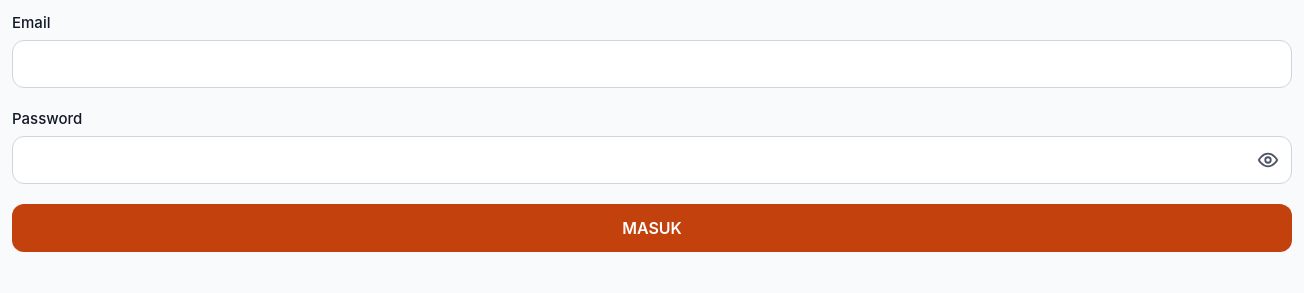
it: LoginForm › rejects a malformed email before any request
This screenshot has width=1304, height=293.
Type "andi" into the field labelled "Email" at (652, 64), box [12,40,1292,88]
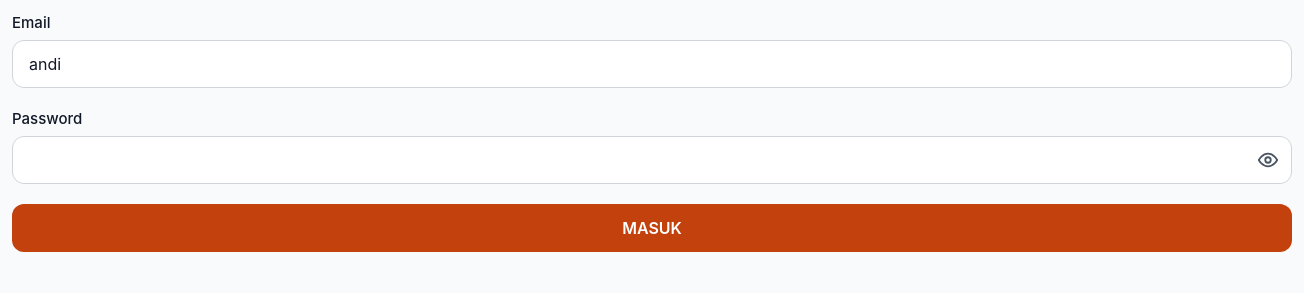
Type "password123" into the password field labelled "Password" at (652, 160), box [12,136,1292,184]
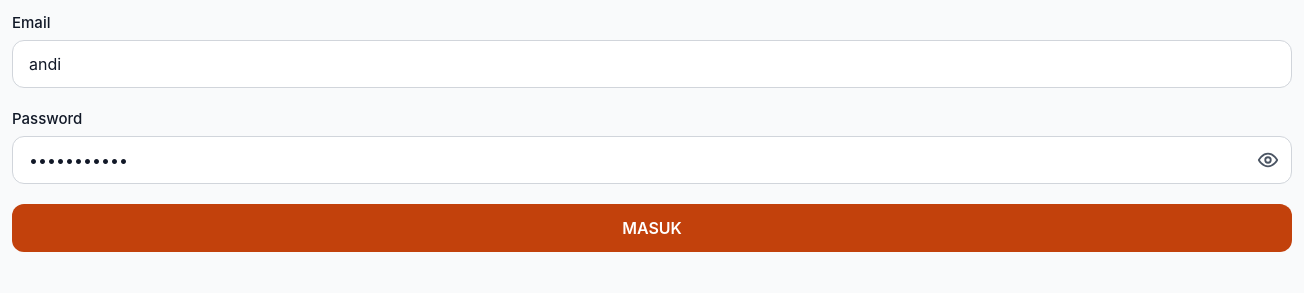
Click the button "MASUK" at (652, 228), box [12,204,1292,252]
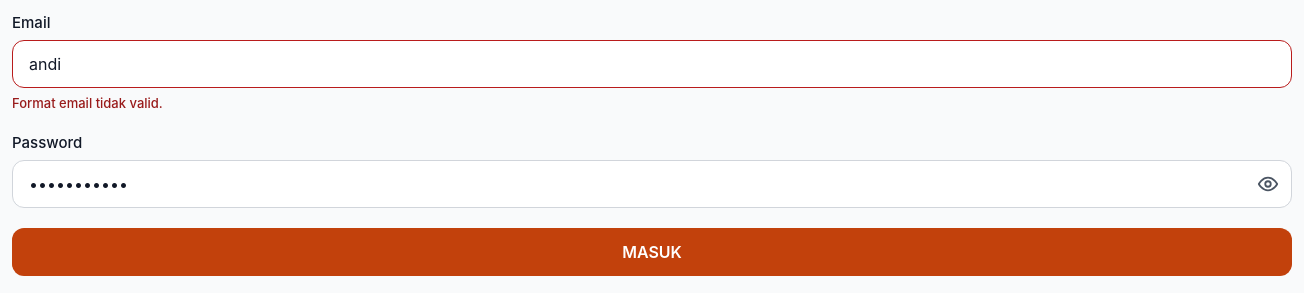
Check: the text "Format email tidak valid." is shown, box [12,95,163,111]
